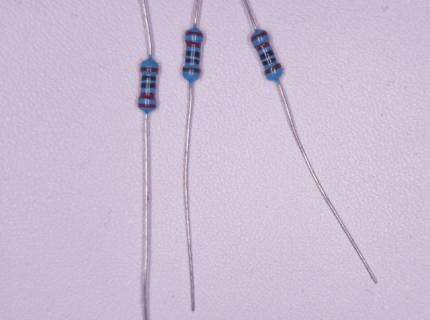Black band: (261, 49, 274, 60), (186, 51, 200, 57), (264, 58, 276, 65), (141, 83, 156, 88), (142, 76, 156, 81), (186, 59, 200, 64)
Brown band: (265, 63, 281, 75), (183, 67, 201, 73), (141, 67, 158, 73)
Red band: (251, 31, 268, 42), (255, 42, 270, 51), (139, 92, 155, 100), (186, 41, 201, 48), (138, 104, 156, 109), (185, 32, 203, 37)
